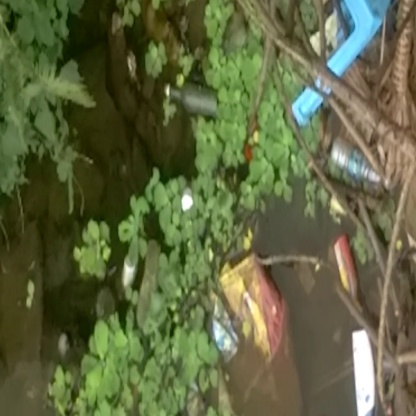bottle: (322, 134, 390, 197), (341, 324, 381, 412), (166, 71, 230, 124), (334, 231, 371, 314)
plastic-bag: (224, 252, 295, 352)
